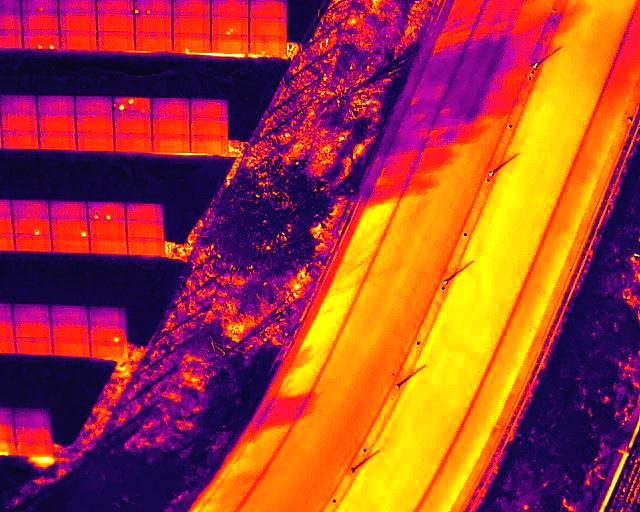Cell: (51, 219, 90, 237), (173, 34, 211, 52), (12, 218, 51, 235), (250, 37, 287, 54), (90, 327, 126, 341), (21, 0, 59, 12)
Cell-Multi: (22, 29, 60, 49), (211, 16, 248, 35), (87, 202, 126, 220), (113, 97, 152, 114), (134, 0, 173, 15)
No-Anomaly: (113, 115, 152, 134), (152, 116, 190, 135), (38, 132, 76, 151), (190, 99, 228, 118), (60, 30, 98, 49), (10, 200, 50, 218), (90, 307, 126, 327), (76, 133, 113, 152), (98, 32, 135, 51), (75, 114, 114, 132), (37, 113, 75, 131), (114, 134, 152, 152), (59, 13, 97, 31), (126, 203, 164, 221), (190, 118, 228, 136), (0, 131, 38, 149), (152, 98, 190, 116), (50, 201, 88, 219), (173, 16, 211, 34), (249, 18, 287, 36), (98, 13, 135, 31), (136, 33, 173, 51), (249, 0, 286, 18), (128, 237, 165, 255), (191, 135, 227, 153), (135, 16, 173, 33), (152, 135, 190, 152), (90, 237, 128, 254), (212, 35, 250, 52), (0, 113, 37, 130), (75, 96, 112, 113), (22, 12, 59, 29), (15, 321, 52, 338), (52, 323, 89, 340), (51, 306, 90, 322), (0, 96, 36, 113), (13, 409, 49, 426), (15, 425, 51, 442), (37, 97, 75, 113), (14, 235, 52, 251), (53, 237, 91, 253), (211, 0, 249, 16), (53, 340, 91, 356), (13, 305, 51, 321), (90, 221, 127, 237), (16, 339, 53, 355), (127, 221, 163, 237), (173, 0, 211, 15), (91, 342, 126, 357), (96, 0, 133, 13), (58, 0, 96, 12), (18, 443, 53, 456)
